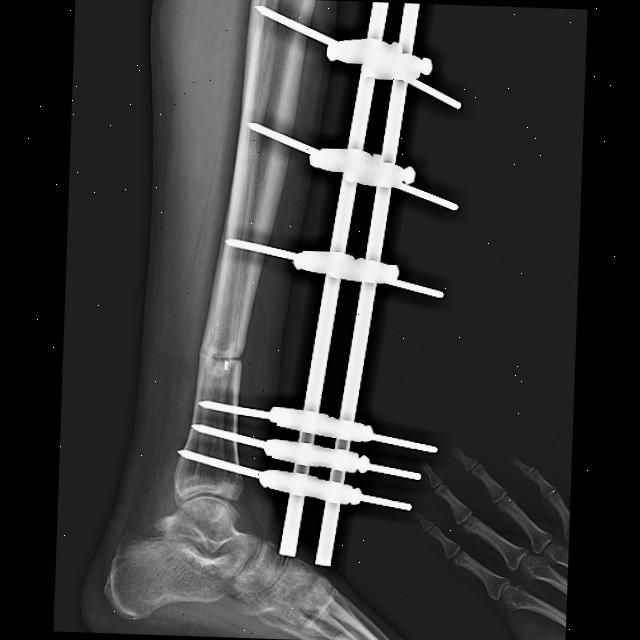Fracture: (197, 326, 245, 378)
